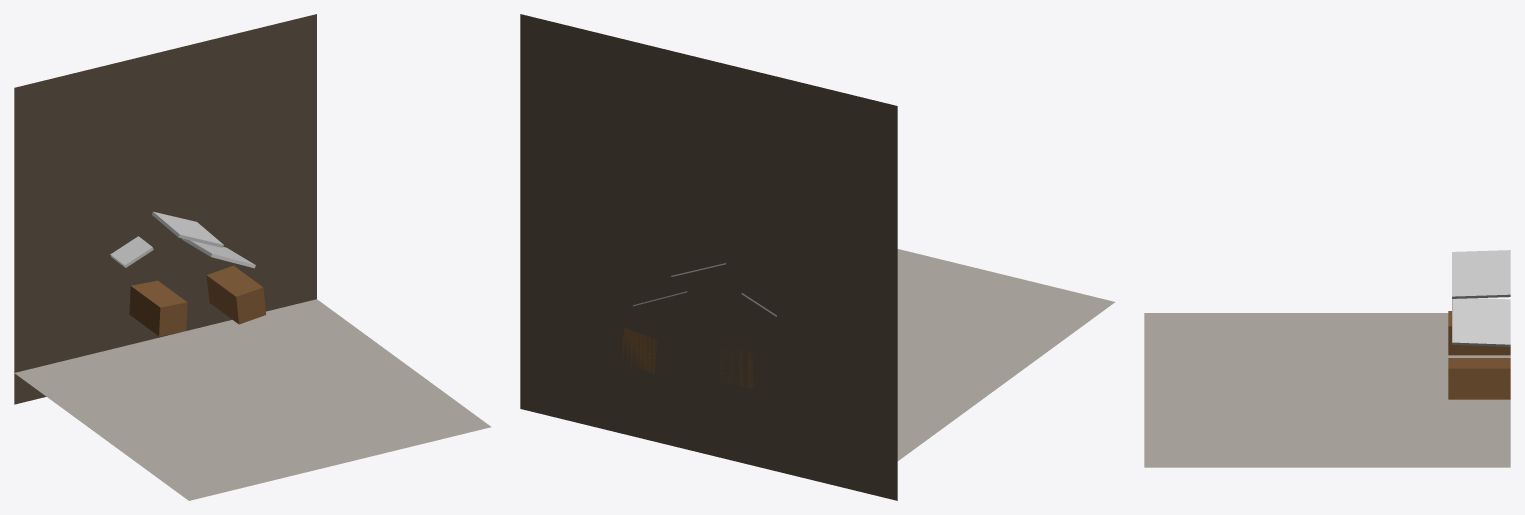
3 renders of one model, left to right at view 1: azimuth 30°, elevation 25°; view 2: azimuth 150°, elevation 25°; view 3: azimuth 270°, elevation 25°, orthographic. The views are drawn at different scales.
Parts seen in each view (by area): view 1: ground_floor, bg_wall_back, diffuse_chair_02, diffuse_chair_01, glass_table_02, glass_partition_03, glass_table_01; view 2: ground_floor, bg_wall_back, diffuse_chair_01, diffuse_chair_02; view 3: bg_wall_back, glass_table_01, glass_table_02, diffuse_chair_01, diffuse_chair_02.
Part boxes in pixels (x1,y1,x2,y2): ground_floor: (14, 14, 316, 404); bg_wall_back: (14, 299, 491, 500); diffuse_chair_02: (129, 280, 187, 336); diffuse_chair_01: (206, 265, 266, 324); glass_table_02: (151, 211, 223, 247); glass_partition_03: (110, 236, 153, 267); glass_table_01: (182, 238, 255, 268); ground_floor: (520, 14, 897, 500); bg_wall_back: (897, 249, 1114, 460); diffuse_chair_01: (622, 327, 657, 373); diffuse_chair_02: (719, 347, 753, 387); bg_wall_back: (1144, 313, 1510, 467); glass_table_01: (1452, 298, 1510, 346); glass_table_02: (1452, 250, 1510, 298); diffuse_chair_01: (1448, 358, 1510, 399); diffuse_chair_02: (1448, 311, 1510, 355).
Bounding box in the file's own units: 0.5 × 0.5 × 0.5001.
